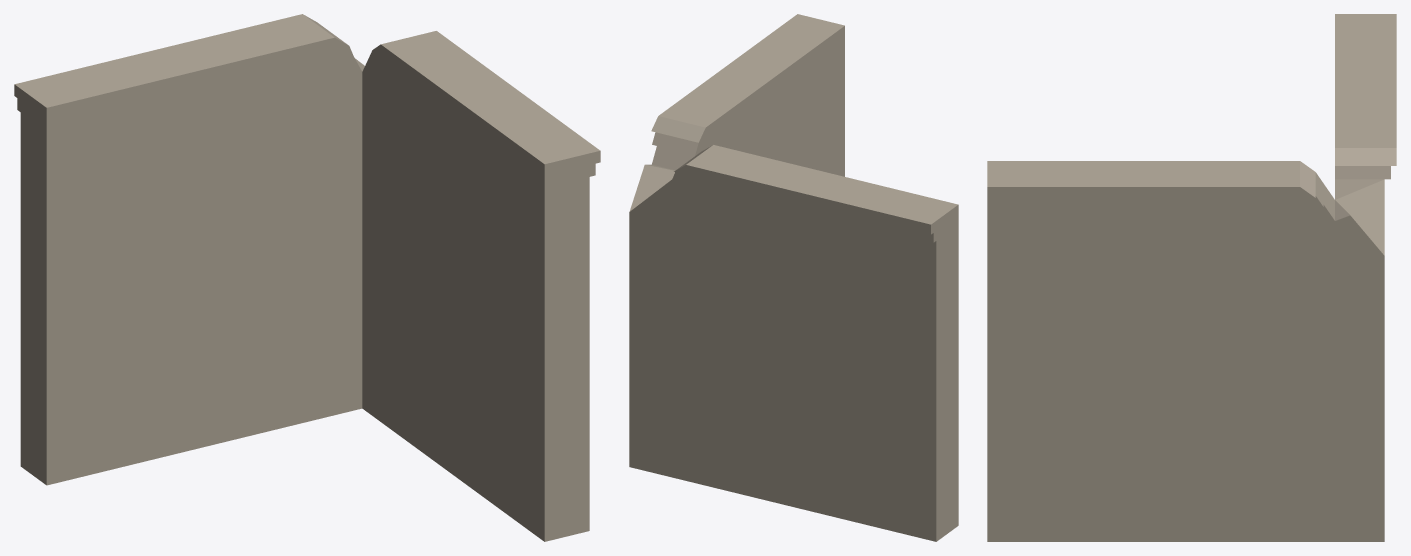
Rendered from Village_Wall_Plaster_2m_Roof_Corner_B.fbx.
The picture shows the model from 3 angles, left to right: view 1: azimuth 30°, elevation 25°; view 2: azimuth 150°, elevation 25°; view 3: azimuth 270°, elevation 25°; orthographic projection. The views are drawn at different scales.
Visible parts, largest first — view 1: Village_Wall_2m_Roof_A.068; view 2: Village_Wall_2m_Roof_A.068; view 3: Village_Wall_2m_Roof_A.068.
Part boxes in pixels (x1,y1,x2,y2): Village_Wall_2m_Roof_A.068: (14,14,600,541); Village_Wall_2m_Roof_A.068: (629,14,958,541); Village_Wall_2m_Roof_A.068: (987,14,1396,541).
Size of the model in its own units: 206 by 200 by 206.
